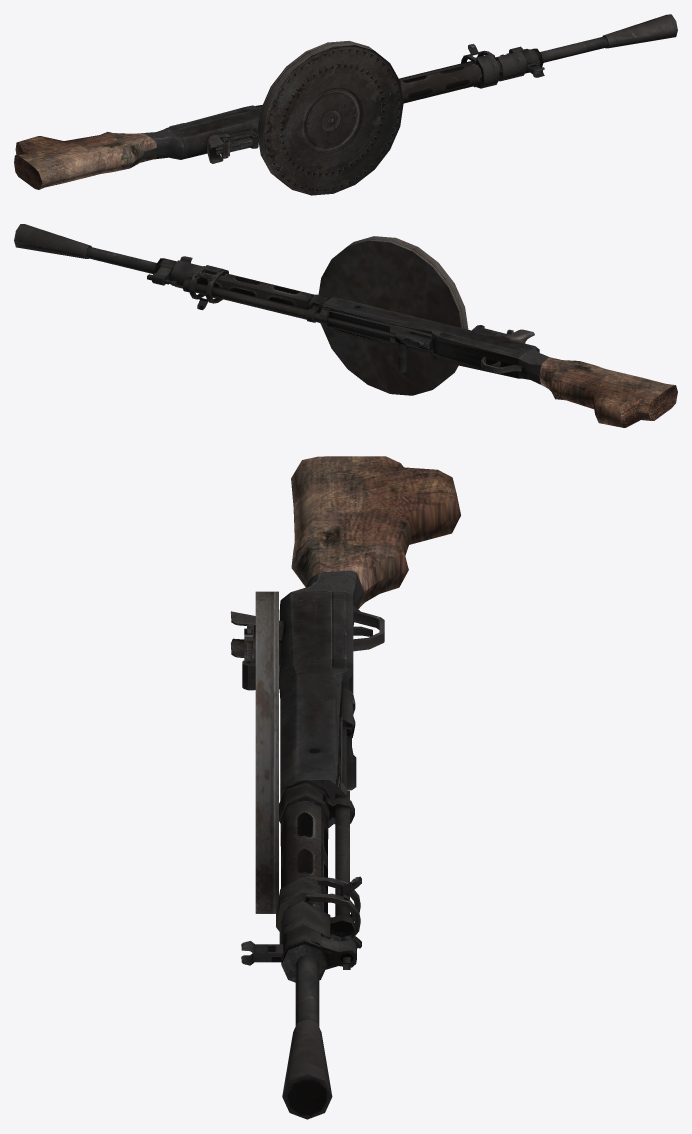
File: weapon_rus_dp28_lmg_LOD01.obj
3 views of the same model, one above another, from view 1: azimuth 30°, elevation 25°; view 2: azimuth 150°, elevation 25°; view 3: azimuth 270°, elevation 25° (orthographic). The views are drawn at different scales.
Visible parts, largest first — view 1: TomGroup_1, TomGroup_0; view 2: TomGroup_0, TomGroup_1; view 3: TomGroup_0, TomGroup_1.
Part boxes in pixels (<box>): TomGroup_1: <box>257,41,403,195</box>; TomGroup_0: <box>14,14,677,189</box>; TomGroup_0: <box>14,224,677,427</box>; TomGroup_1: <box>318,236,468,395</box>; TomGroup_0: <box>230,456,460,1119</box>; TomGroup_1: <box>255,591,278,913</box>.
Bounding box in the file's own units: 134 × 29.79 × 21.15.
2 materials, 2 textured.
